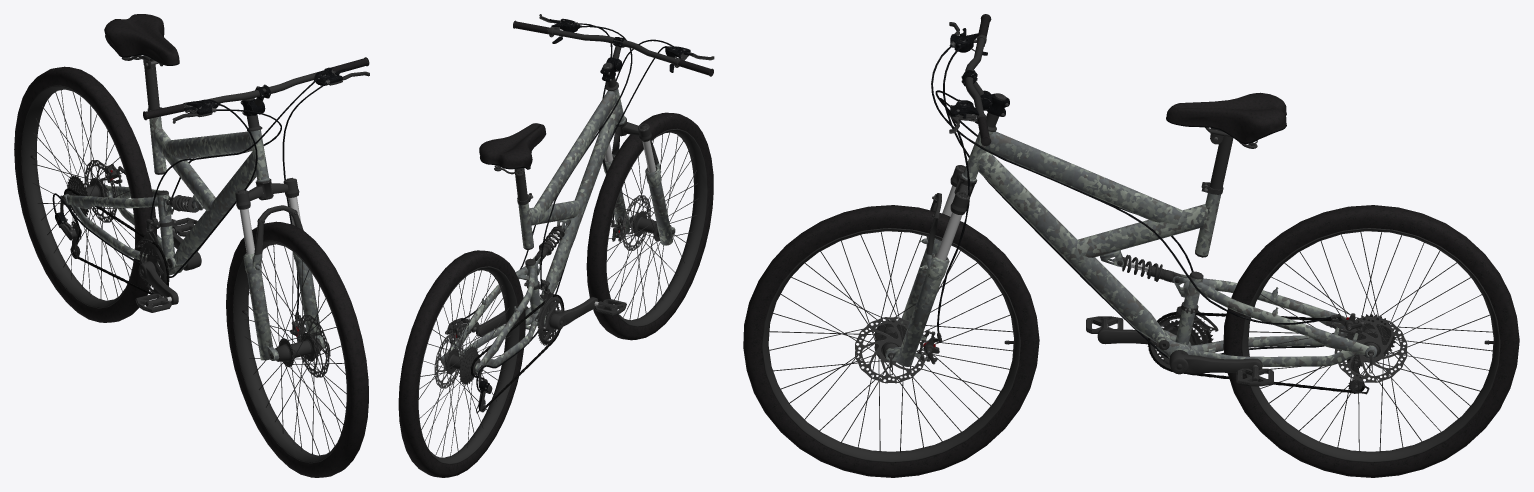
Rendered from sports_bike.glb.
3 renders of one model, left to right at view 1: azimuth 30°, elevation 25°; view 2: azimuth 150°, elevation 25°; view 3: azimuth 270°, elevation 25°, orthographic. The views are drawn at different scales.
Visible parts, largest first — view 1: Wheels, Bike_Frame, Suspension, Bike.068, Brake_Lever, Traction, Handlebar, Brakes, Gearshift, Chain; view 2: Wheels, Bike_Frame, Suspension, Traction, Bike.068, Brake_Lever, Handlebar, Brakes, Gearshift, Chain; view 3: Wheels, Bike_Frame, Suspension, Bike.068, Traction, Brake_Lever, Brakes, Handlebar, Chain.
Part boxes in pixels (x1,y1,x2,y2): Wheels: (14, 66, 368, 477); Bike_Frame: (63, 116, 269, 275); Suspension: (166, 98, 325, 360); Bike.068: (104, 14, 179, 110); Brake_Lever: (52, 67, 369, 312); Traction: (65, 174, 201, 312); Handlebar: (143, 57, 369, 120); Brakes: (84, 160, 329, 377); Gearshift: (55, 195, 175, 258); Chain: (64, 188, 169, 296); Wheels: (398, 112, 713, 477); Bike_Frame: (441, 82, 625, 372); Suspension: (535, 62, 675, 261); Traction: (447, 296, 626, 385); Bike.068: (479, 123, 546, 205); Brake_Lever: (461, 14, 714, 391); Handlebar: (513, 20, 713, 81); Brakes: (434, 195, 650, 388); Gearshift: (476, 279, 553, 413); Chain: (471, 294, 564, 411); Wheels: (743, 205, 1519, 477); Bike_Frame: (961, 126, 1377, 366); Suspension: (885, 93, 1181, 366); Bike.068: (1166, 92, 1286, 194); Traction: (1086, 314, 1396, 386); Brake_Lever: (931, 22, 1330, 358); Brakes: (855, 313, 1407, 383); Handlebar: (961, 14, 1009, 146); Chain: (1148, 312, 1364, 393).
Size of the model in its own units: 0.6722 by 1.03 by 1.79.
10 materials, 10 textured.
